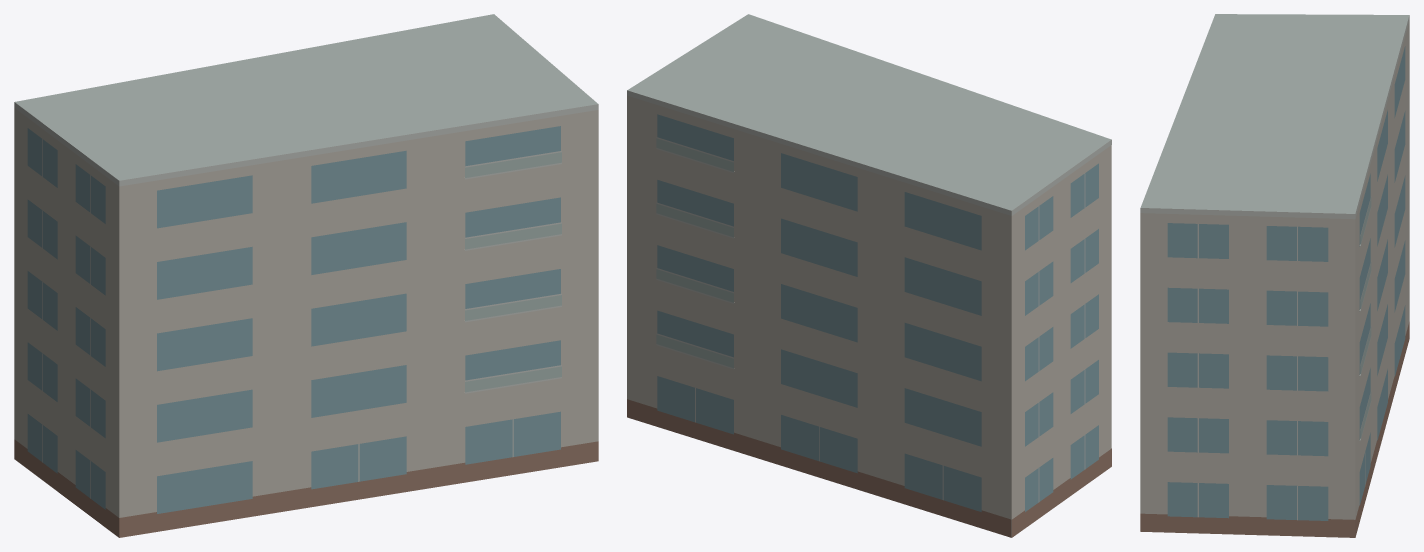
File: survey-upis-32949579.glb
The picture shows the model from 3 angles, left to right: view 1: azimuth 30°, elevation 25°; view 2: azimuth 150°, elevation 25°; view 3: azimuth 270°, elevation 25°; orthographic projection. The views are drawn at different scales.
Parts seen in each view (by area): view 1: survey-upis-32949579.tmp; view 2: survey-upis-32949579.tmp; view 3: survey-upis-32949579.tmp.
Boxes of the visible parts, left/top/right/bottom form: survey-upis-32949579.tmp: left=14, top=14, right=598, bottom=537; survey-upis-32949579.tmp: left=627, top=14, right=1111, bottom=537; survey-upis-32949579.tmp: left=1140, top=14, right=1409, bottom=537.
Size of the model in its own units: 20.21 by 15.25 by 11.49.
